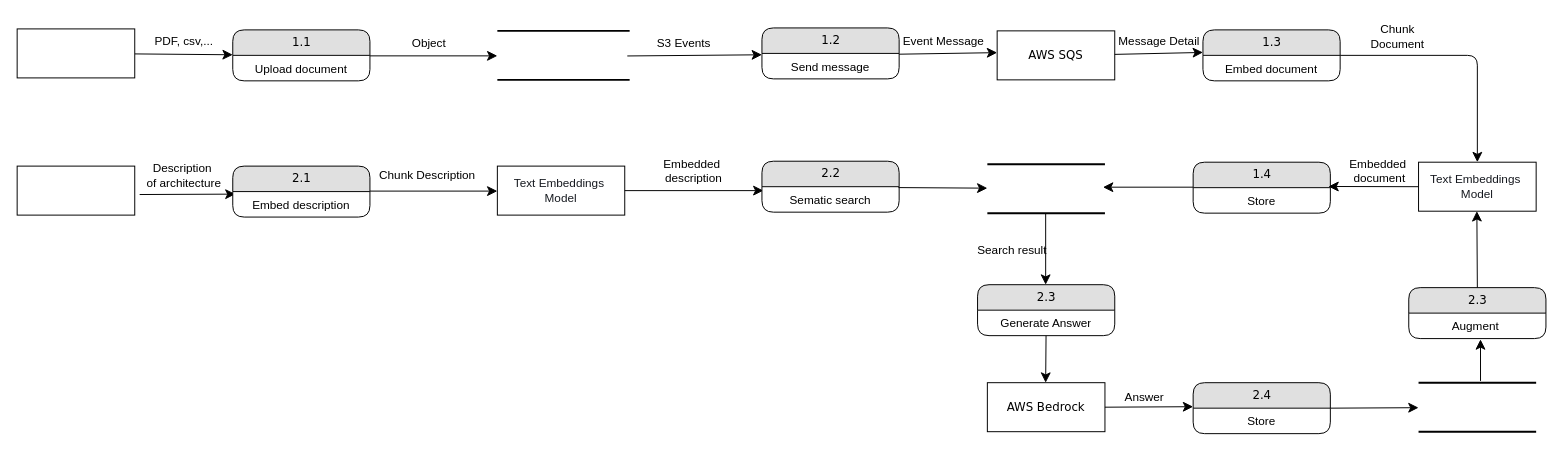
This 1563x453 diagram has some shape labels left out. The shapes that lost their labels are listed below. From the top down, each one's centre as x and y in pixels, then its label:
At point 75,53: "Staff".
At point 563,54: "AWS S3".
At point 75,190: "User".
At point 1045,188: "AWS OpenSearch".
At point 1477,406: "AWS DynamoDB".
